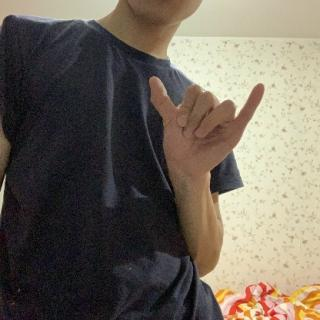YA: (146, 70, 268, 187)
